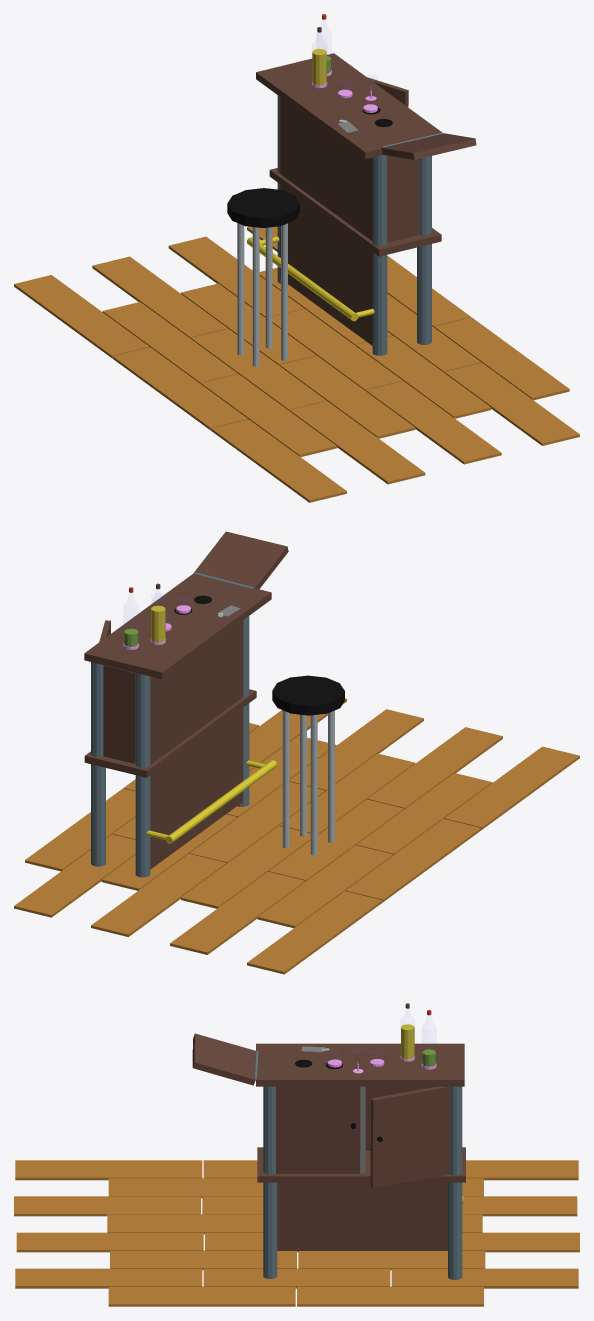
Rendered from fancybar.gltf.
The picture shows the model from 3 angles, top to bottom: view 1: azimuth 30°, elevation 25°; view 2: azimuth 150°, elevation 25°; view 3: azimuth 270°, elevation 25°; orthographic projection. The views are drawn at different scales.
Visible parts, largest first — view 1: node_MeshObject362997184-PolyPaper23; view 2: node_MeshObject362997184-PolyPaper23; view 3: node_MeshObject362997184-PolyPaper23.
Part boxes in pixels (x1,y1,x2,y2): node_MeshObject362997184-PolyPaper23: (14,14,579,502); node_MeshObject362997184-PolyPaper23: (14,531,579,974); node_MeshObject362997184-PolyPaper23: (14,1003,579,1306).
Bounding box in the file's own units: 2.55 × 2.15 × 4.24.
